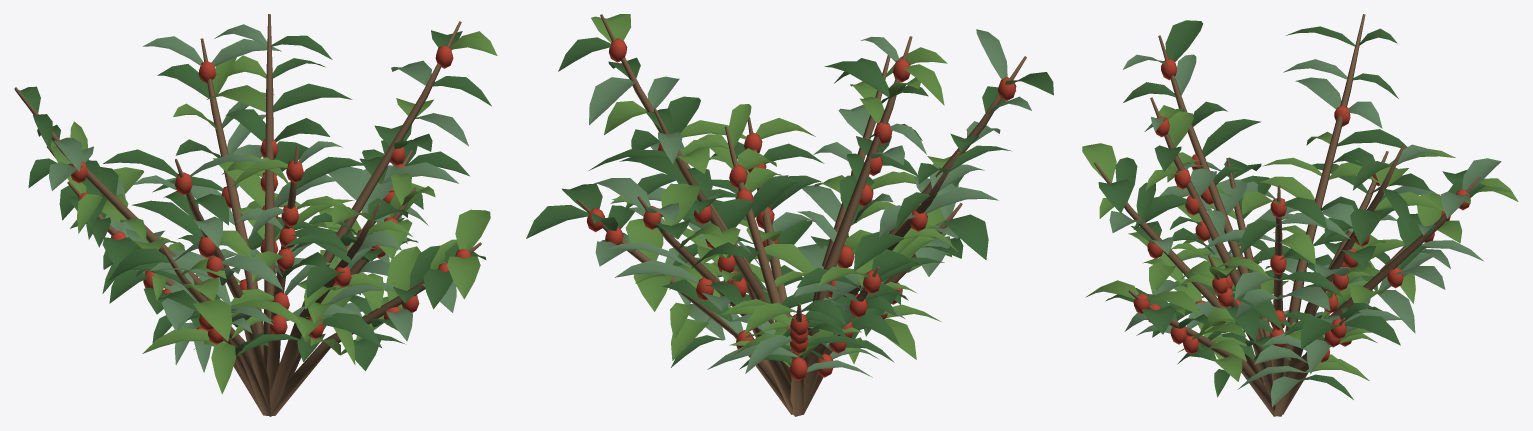
The model's file is sc_berry_scrub.glb.
3 views of the same model, side by side, from view 1: azimuth 30°, elevation 25°; view 2: azimuth 150°, elevation 25°; view 3: azimuth 270°, elevation 25° (orthographic). The views are drawn at different scales.
Parts seen in each view (by area): view 1: sc_berry_scrub; view 2: sc_berry_scrub; view 3: sc_berry_scrub.
Part boxes in pixels (bbox=[...]): sc_berry_scrub: bbox=[14, 14, 497, 416]; sc_berry_scrub: bbox=[526, 14, 1053, 416]; sc_berry_scrub: bbox=[1082, 14, 1518, 416].
Size of the model in its own units: 1.04 by 0.7985 by 1.01.
